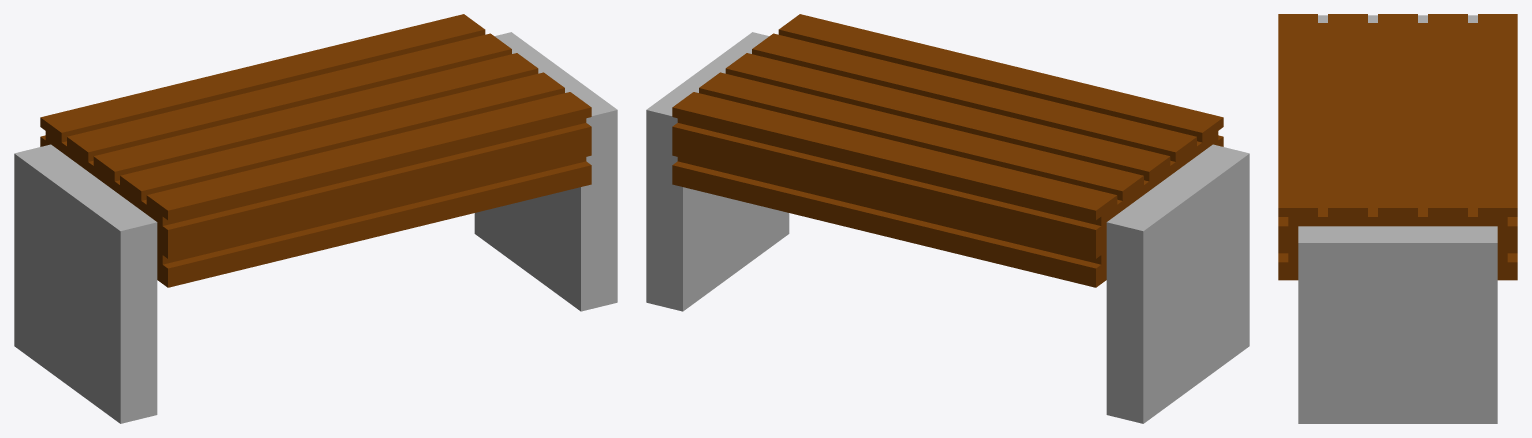
File: others2-13.obj
3 views of the same model, side by side, from view 1: azimuth 30°, elevation 25°; view 2: azimuth 150°, elevation 25°; view 3: azimuth 270°, elevation 25° (orthographic). The views are drawn at different scales.
Size of the model in its own units: 5.4 by 2.2 by 2.4.
1 material, 1 textured.
